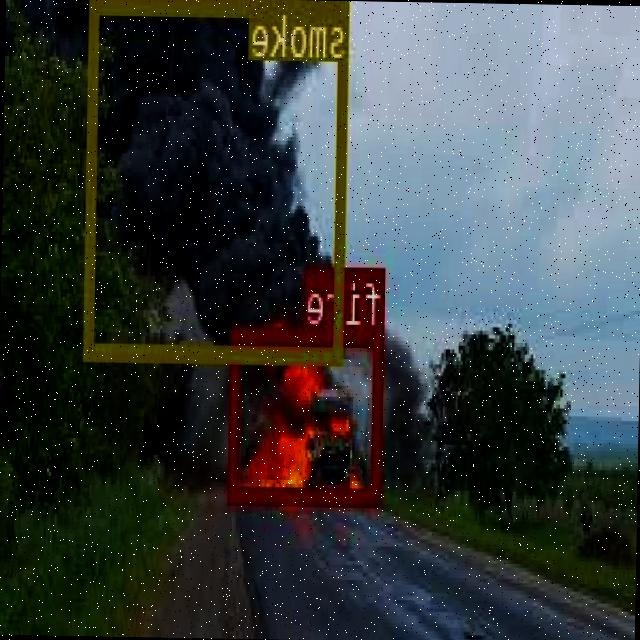fire: (231, 324, 386, 503)
smoke: (87, 0, 349, 358)
